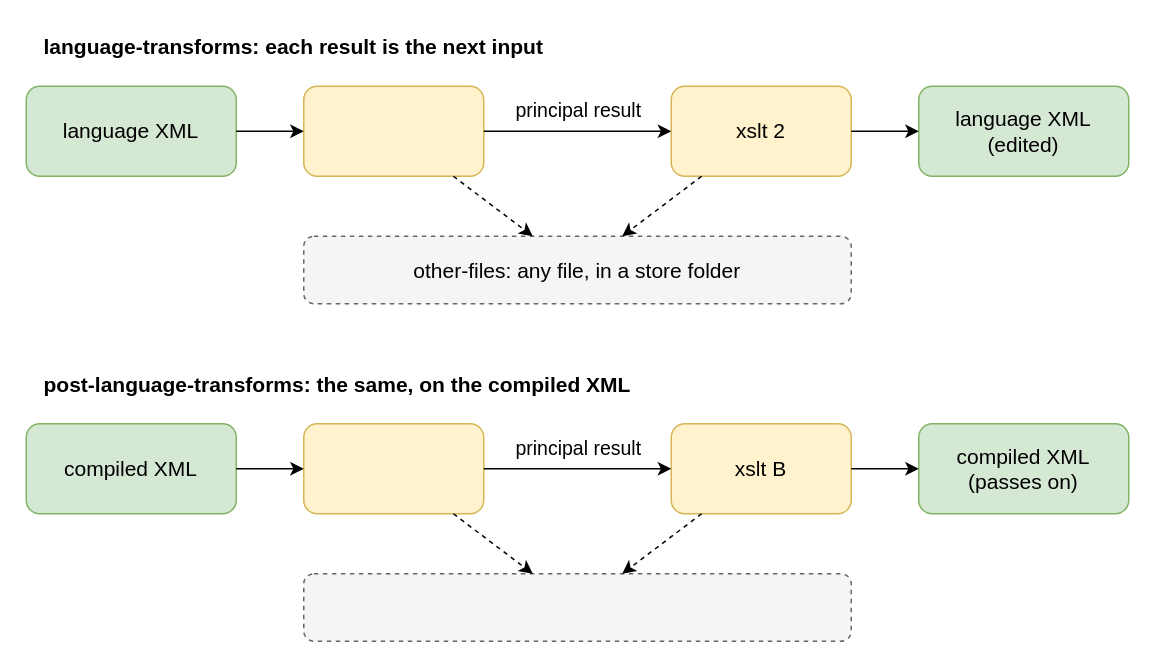
This 1155x668 diagram has some shape labels left out. Here are the shapes that lost their labels. From the top down, the centre of each, then its label:
At [393,130]: "xslt 1".
At [393,468]: "xslt A".
At [576,606]: "other-files: code, docs, anything".
